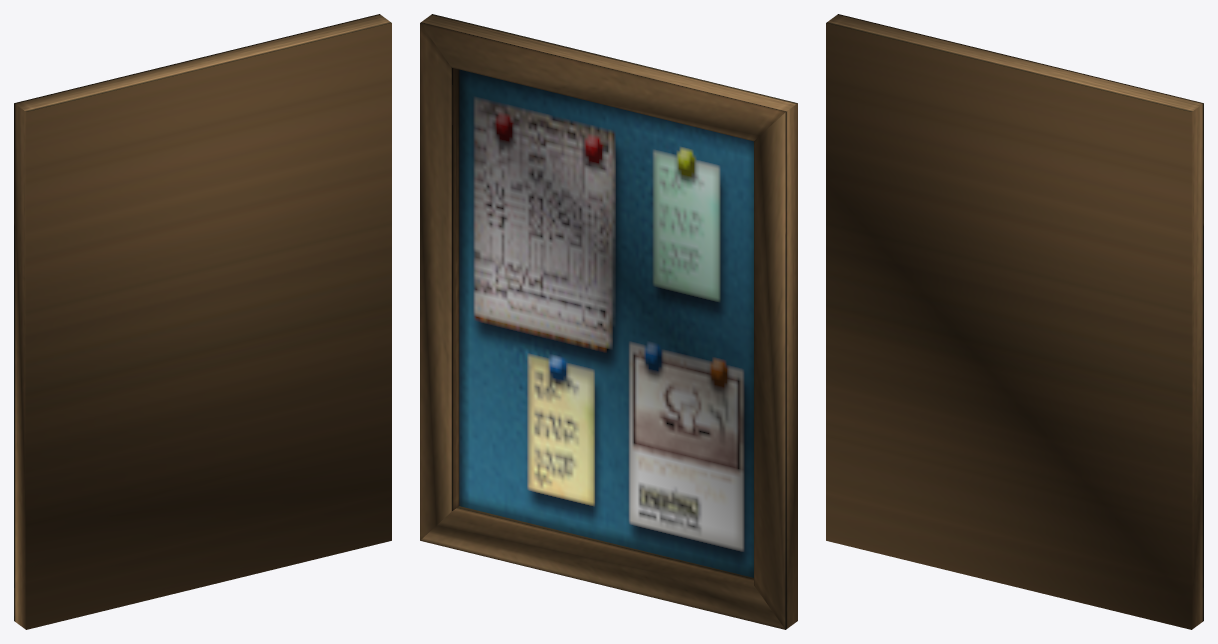
The model's file is a_SCboard02.glb.
3 views of the same model, side by side, from view 1: azimuth 30°, elevation 25°; view 2: azimuth 150°, elevation 25°; view 3: azimuth 330°, elevation 25° (orthographic).
Parts seen in each view (by area): view 1: a_SCboard02; view 2: a_SCboard02; view 3: a_SCboard02.
Boxes of the visible parts, x1,y1,x2,y2 form: a_SCboard02: (14,14,391,629); a_SCboard02: (420,14,797,629); a_SCboard02: (826,14,1203,629).
Size of the model in its own units: 1.03 by 1.4 by 0.06.
1 material, 1 textured.
